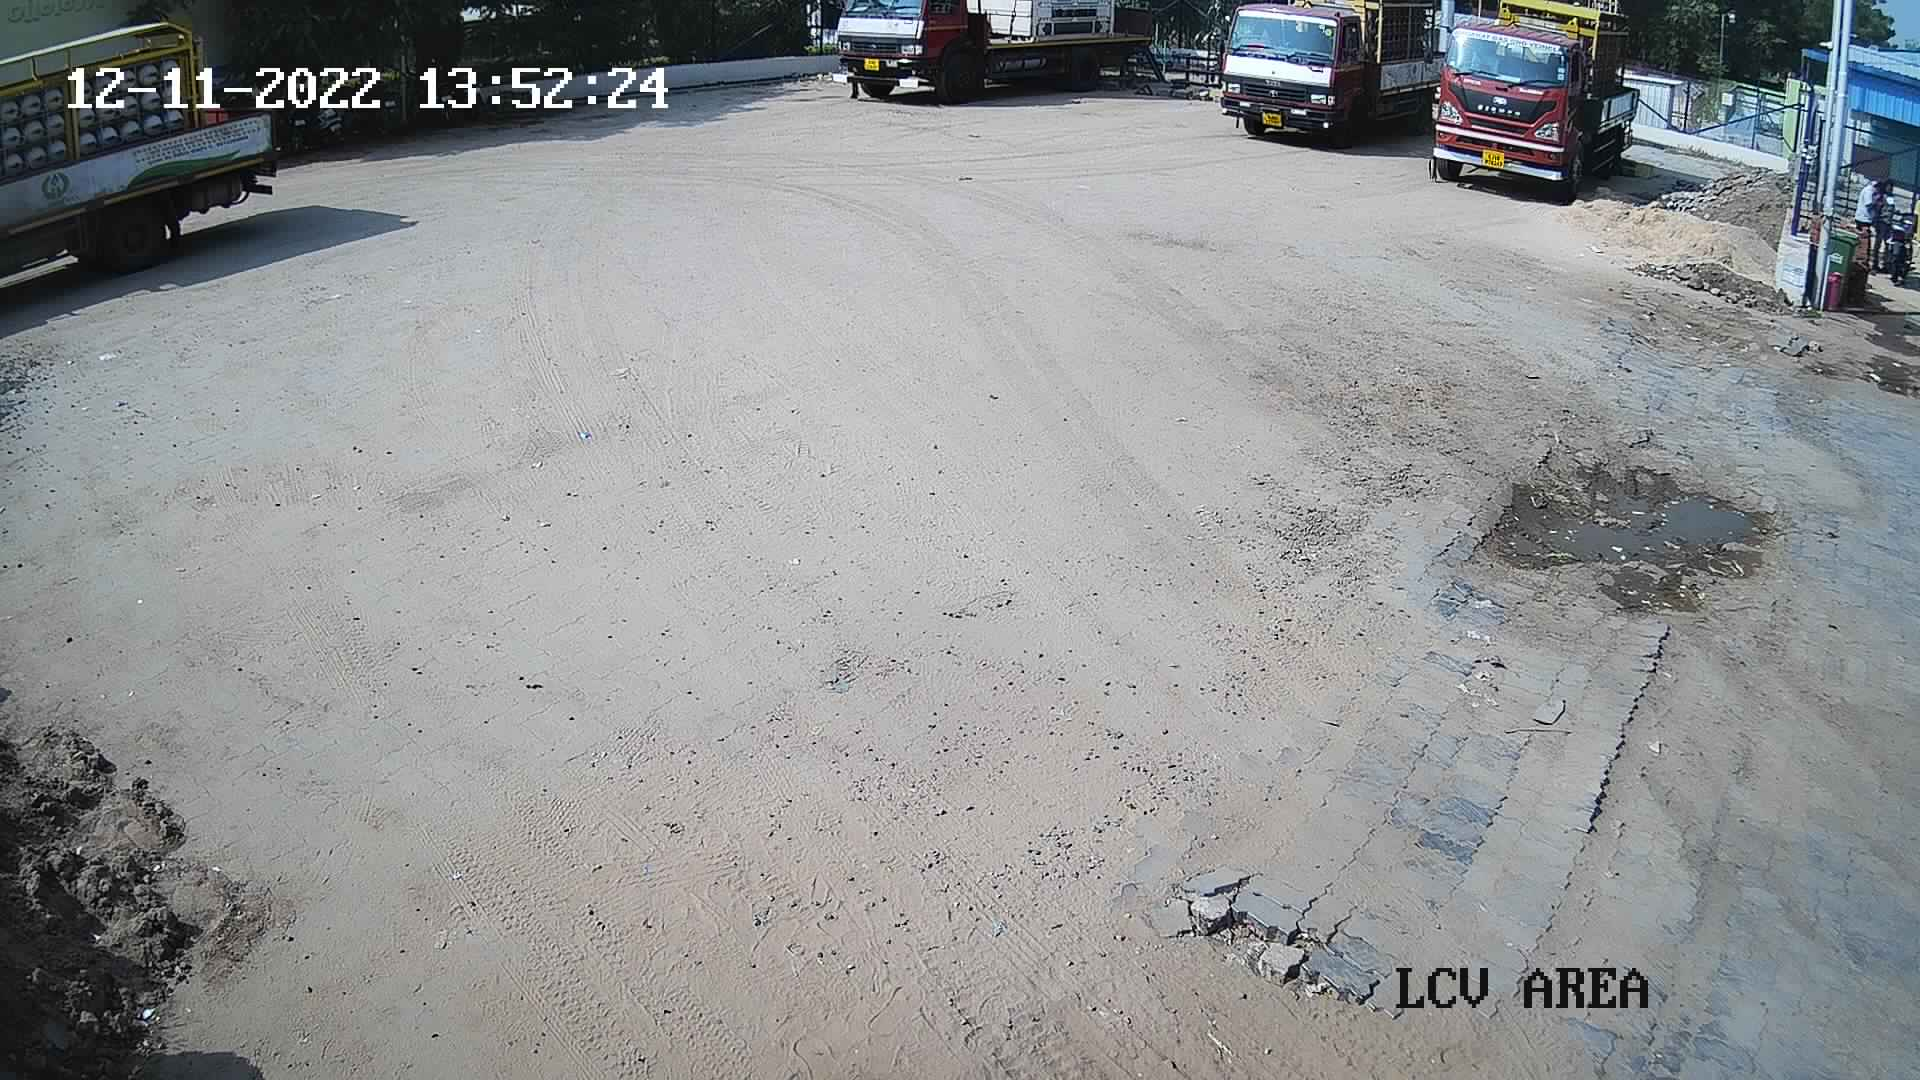Bike: (1867, 194, 1917, 284)
HMV: (4, 0, 323, 281), (1404, 0, 1663, 214), (804, 0, 1185, 111), (1201, 0, 1477, 148)
